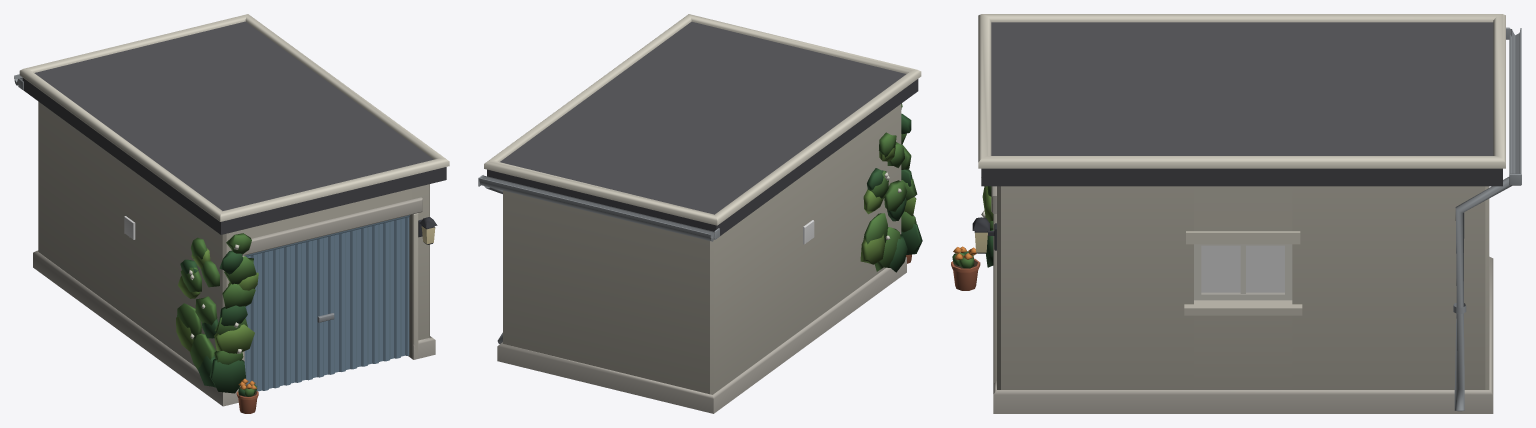
File: Garage.fbx
3 renders of one model, left to right at view 1: azimuth 30°, elevation 25°; view 2: azimuth 150°, elevation 25°; view 3: azimuth 270°, elevation 25°, orthographic. The views are drawn at different scales.
Visible parts, largest first — view 1: Garage; view 2: Garage; view 3: Garage.
Part boxes in pixels (box(x1,y1,x2,y2)): Garage: box(14, 14, 449, 413); Garage: box(478, 14, 922, 413); Garage: box(951, 14, 1521, 413).
Size of the model in its own units: 3.66 by 2.91 by 5.8.
